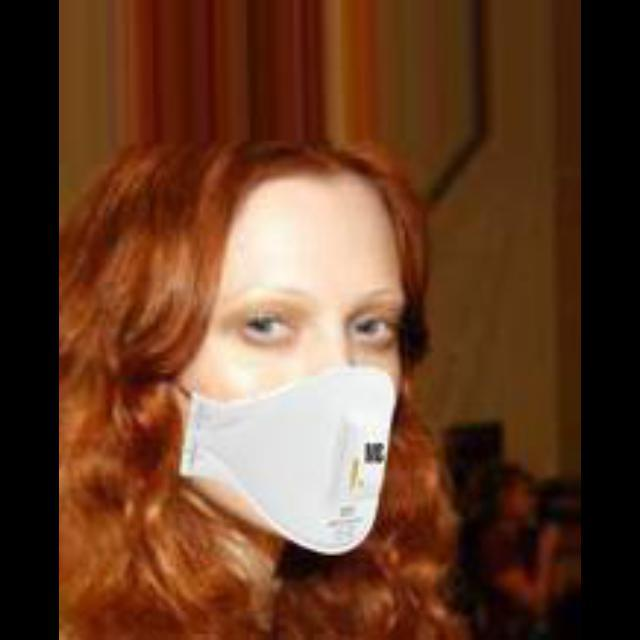suspicion: (84, 150, 503, 572)
